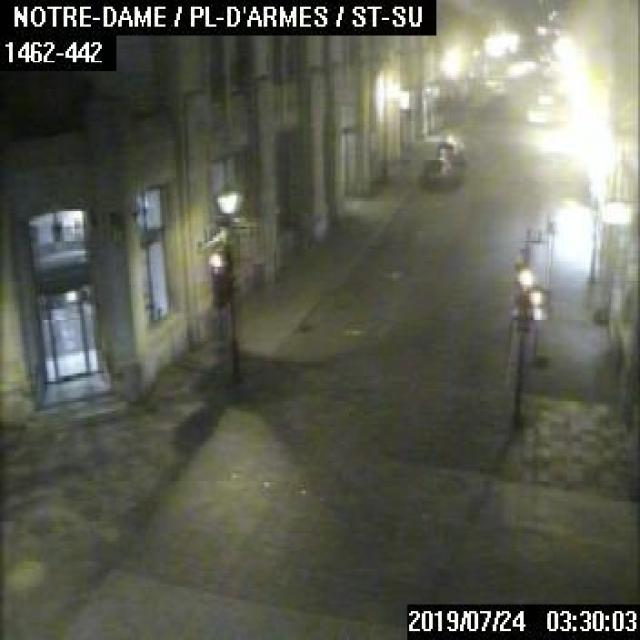vehicle: (432, 135, 464, 163), (418, 156, 450, 184), (524, 91, 550, 123)
